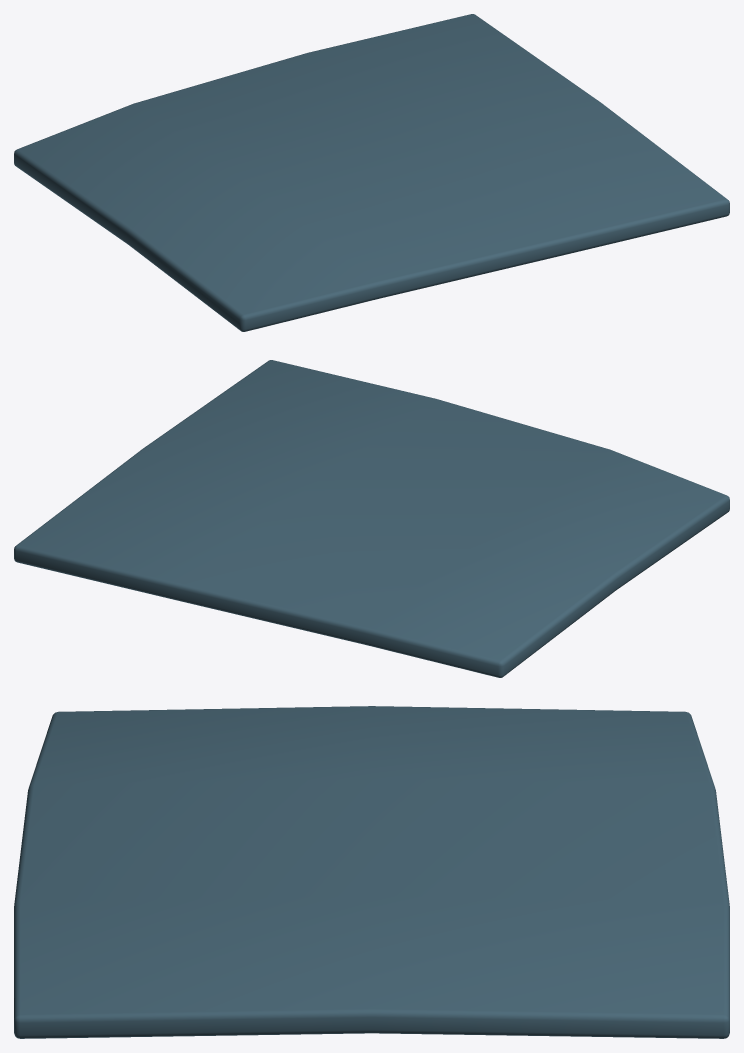
The model's file is sedan_hood.glb.
3 renders of one model, top to bottom at view 1: azimuth 30°, elevation 25°; view 2: azimuth 150°, elevation 25°; view 3: azimuth 270°, elevation 25°, orthographic. The views are drawn at different scales.
Parts seen in each view (by area): view 1: Bonnet; view 2: Bonnet; view 3: Bonnet.
Boxes of the visible parts, x1,y1,x2,y2 form: Bonnet: [14, 14, 729, 331]; Bonnet: [14, 360, 729, 677]; Bonnet: [14, 706, 729, 1038].
Size of the model in its own units: 2.18 by 0.1464 by 2.04.
